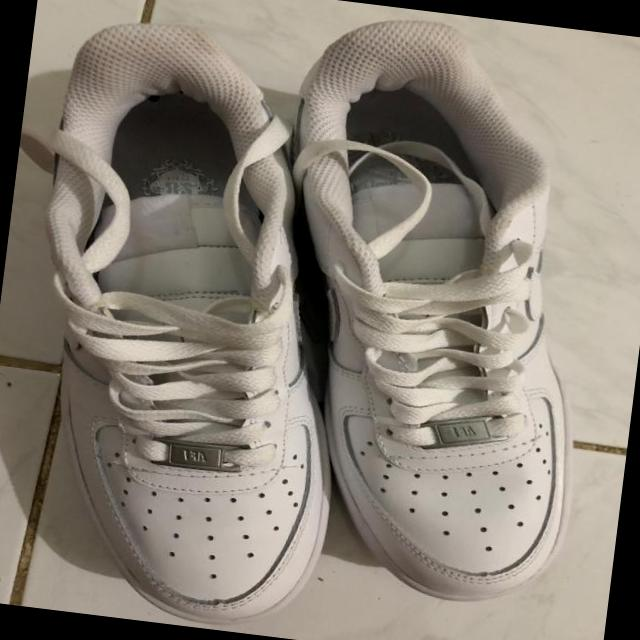nike_fake_airforce: (0, 11, 399, 639), (245, 5, 624, 618)
